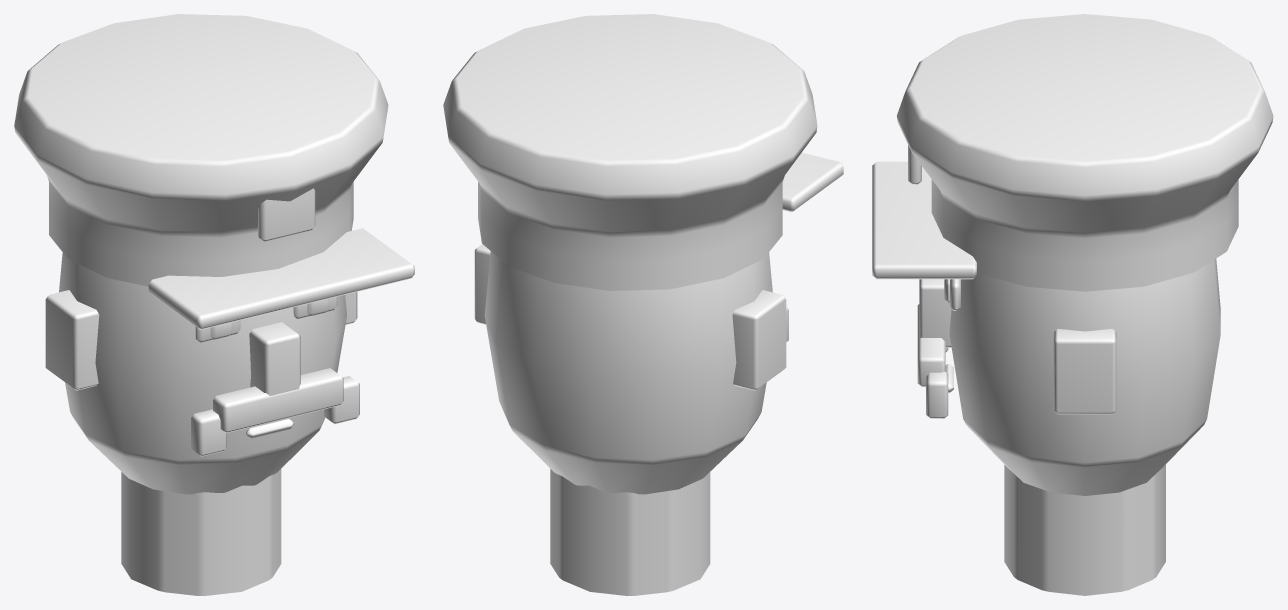
The model's file is giant_police_head.glb.
3 views of the same model, side by side, from view 1: azimuth 30°, elevation 25°; view 2: azimuth 150°, elevation 25°; view 3: azimuth 270°, elevation 25° (orthographic).
Visible parts, largest first — view 1: GiantPoliceHead; view 2: GiantPoliceHead; view 3: GiantPoliceHead.
Boxes of the visible parts, box(x1,y1,x2,y2) form: GiantPoliceHead: box(14, 14, 414, 595); GiantPoliceHead: box(443, 14, 843, 595); GiantPoliceHead: box(872, 14, 1273, 595).
Size of the model in its own units: 0.2702 by 0.382 by 0.2876.
Materials: 1 (1 with a texture image).
